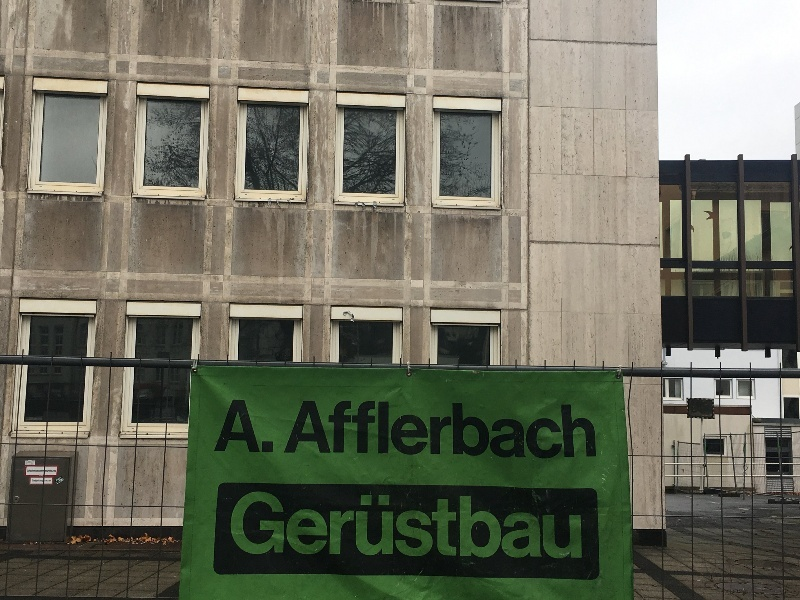text: (241, 492, 256, 561), (257, 492, 272, 561), (273, 492, 288, 561), (289, 492, 304, 561), (305, 492, 320, 561), (321, 492, 336, 561), (337, 492, 352, 561), (353, 492, 368, 561), (369, 492, 384, 561), (385, 492, 400, 561), (401, 492, 416, 561), (417, 492, 432, 561), (433, 492, 448, 561), (449, 492, 464, 561), (465, 492, 480, 561), (481, 492, 496, 561), (497, 492, 512, 561), (513, 492, 528, 561), (529, 492, 544, 561), (545, 492, 560, 561), (561, 492, 576, 561), (241, 400, 256, 459), (257, 400, 272, 459), (273, 400, 288, 459), (289, 400, 304, 459), (305, 400, 320, 459), (321, 400, 336, 459), (337, 400, 352, 459), (353, 400, 368, 459), (369, 400, 384, 459), (385, 400, 400, 459), (401, 400, 416, 459), (417, 400, 432, 459), (433, 400, 448, 459), (449, 400, 464, 459), (465, 400, 480, 459), (481, 400, 496, 459), (497, 400, 512, 459), (513, 400, 528, 459), (529, 400, 544, 459), (545, 400, 560, 459), (561, 400, 576, 459), (577, 400, 592, 459), (231, 492, 240, 561), (577, 492, 583, 561), (233, 400, 240, 459), (593, 400, 598, 459), (33, 479, 48, 483), (33, 470, 48, 473), (49, 470, 57, 473), (27, 470, 32, 473), (49, 479, 52, 483)
